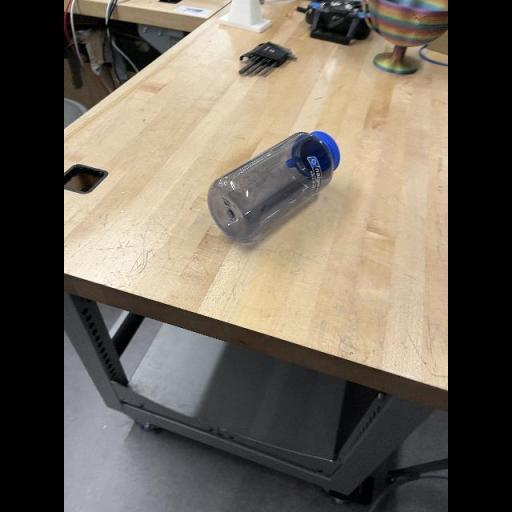bottle: (206, 131, 341, 244)
